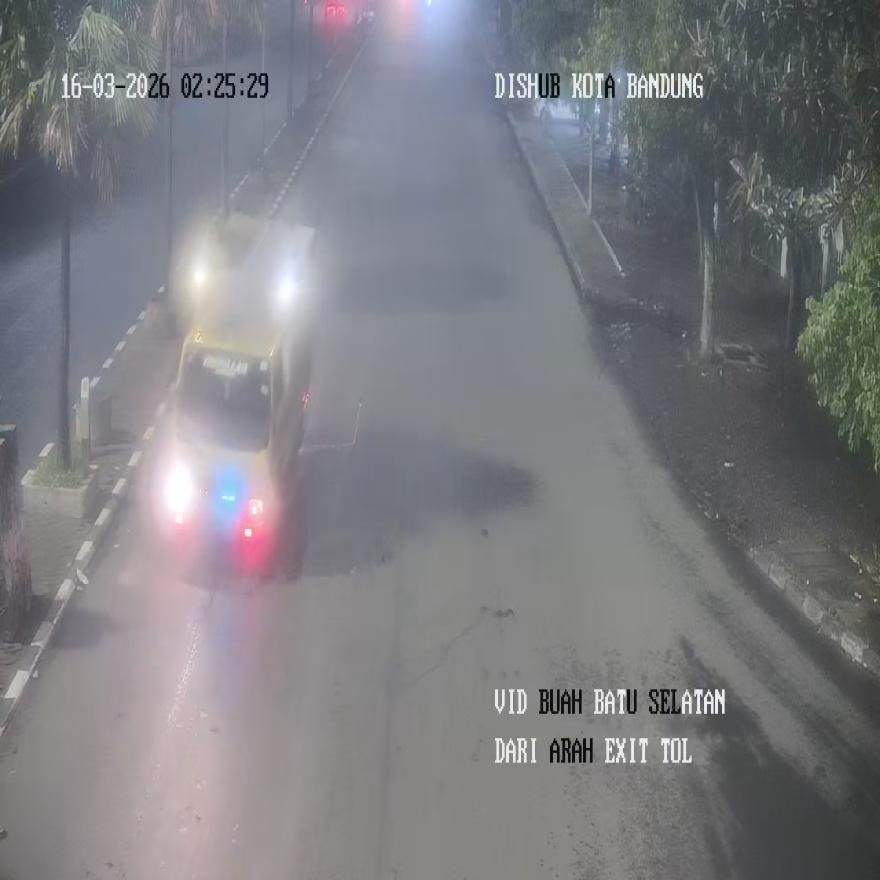Truk ringan: (156, 221, 318, 567)
